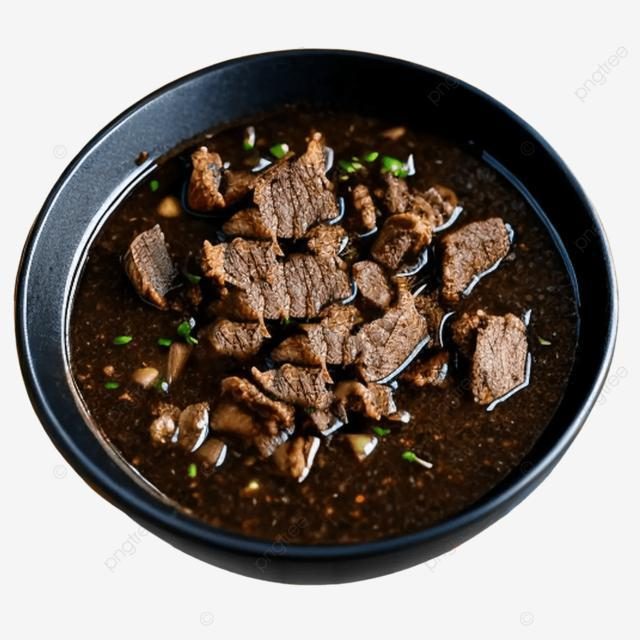Rawon: (63, 114, 569, 531)
